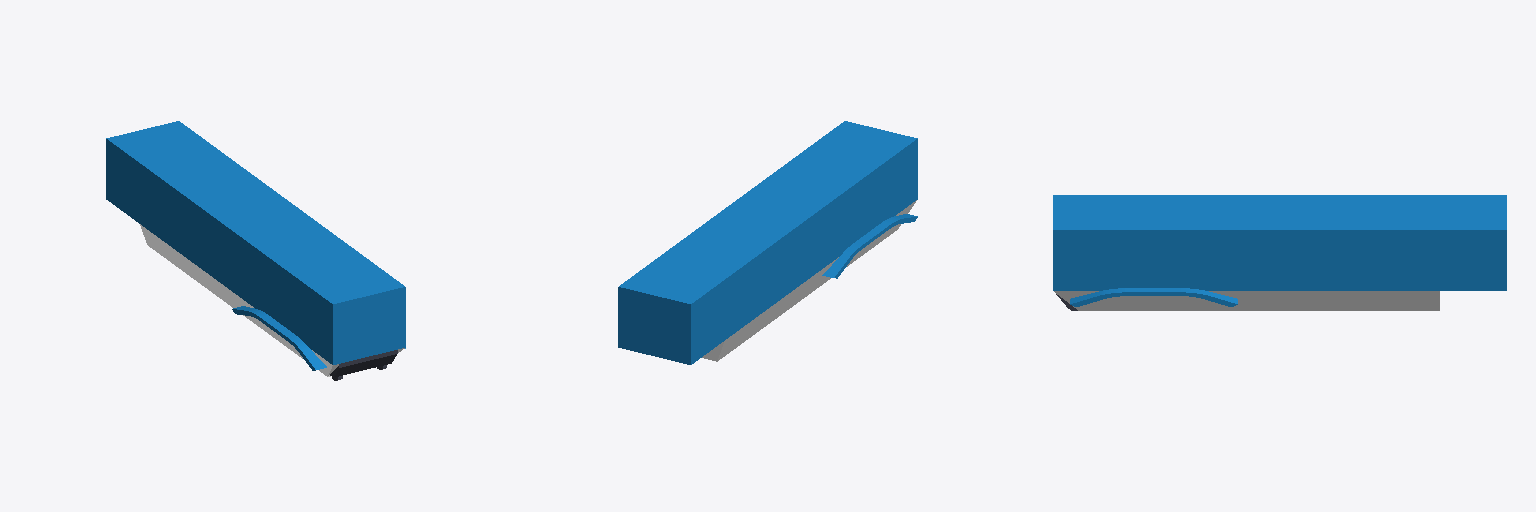
The model's file is Trailer01.obj.
The picture shows the model from 3 angles: view 1: azimuth 30°, elevation 25°; view 2: azimuth 150°, elevation 25°; view 3: azimuth 270°, elevation 25°; orthographic projection.
Parts seen in each view (by area): view 1: Trailer01_Trailer_Truck01; view 2: Trailer01_Trailer_Truck01; view 3: Trailer01_Trailer_Truck01.
Part boxes in pixels (x1,y1,x2,y2): Trailer01_Trailer_Truck01: (106,121,405,380); Trailer01_Trailer_Truck01: (618,121,917,364); Trailer01_Trailer_Truck01: (1053,195,1506,310).
Bounding box in the file's own units: 1.24 × 1.14 × 5.4.